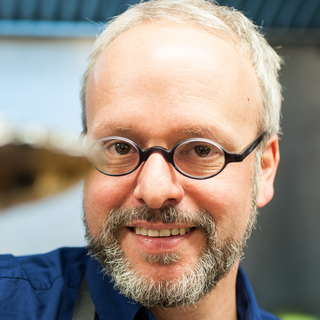eye: (103, 136, 145, 162), (181, 141, 223, 165)
